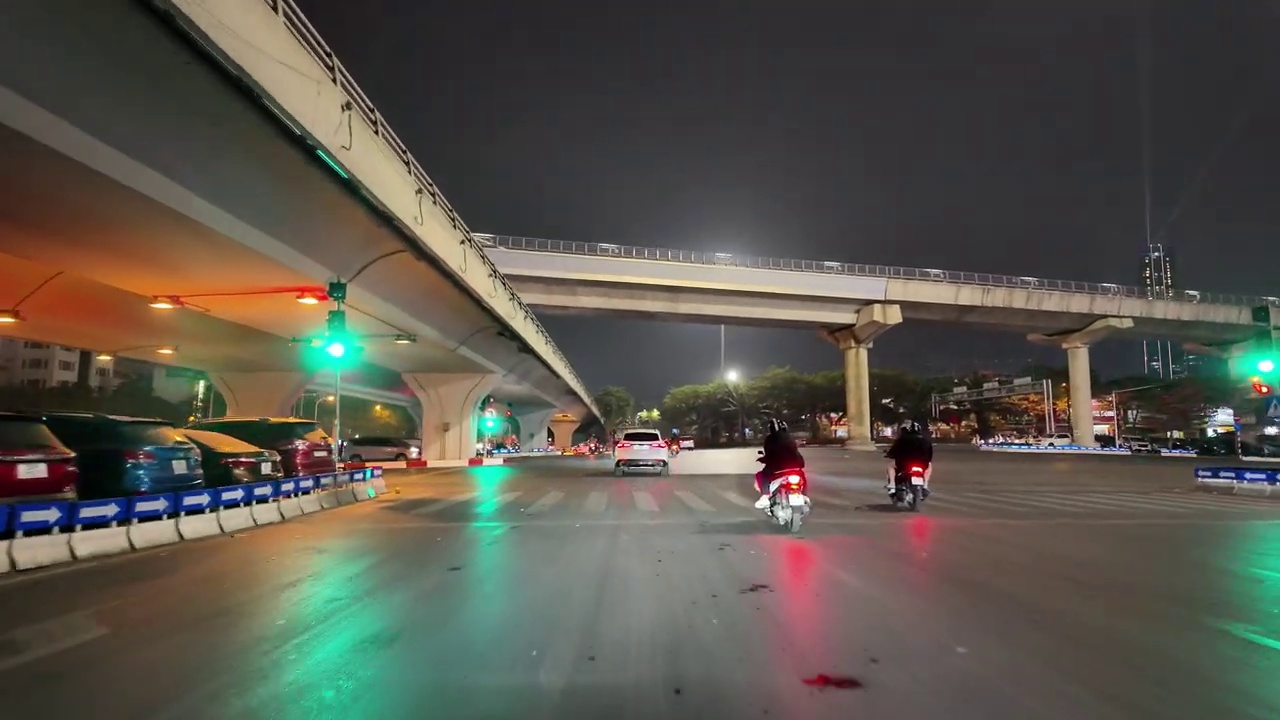acesa: (726, 368, 744, 381)
